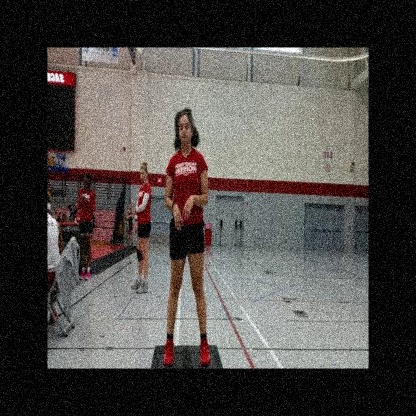lateral_flexion_normal: (158, 103, 211, 368)
stance_width_broad: (160, 144, 212, 369)
